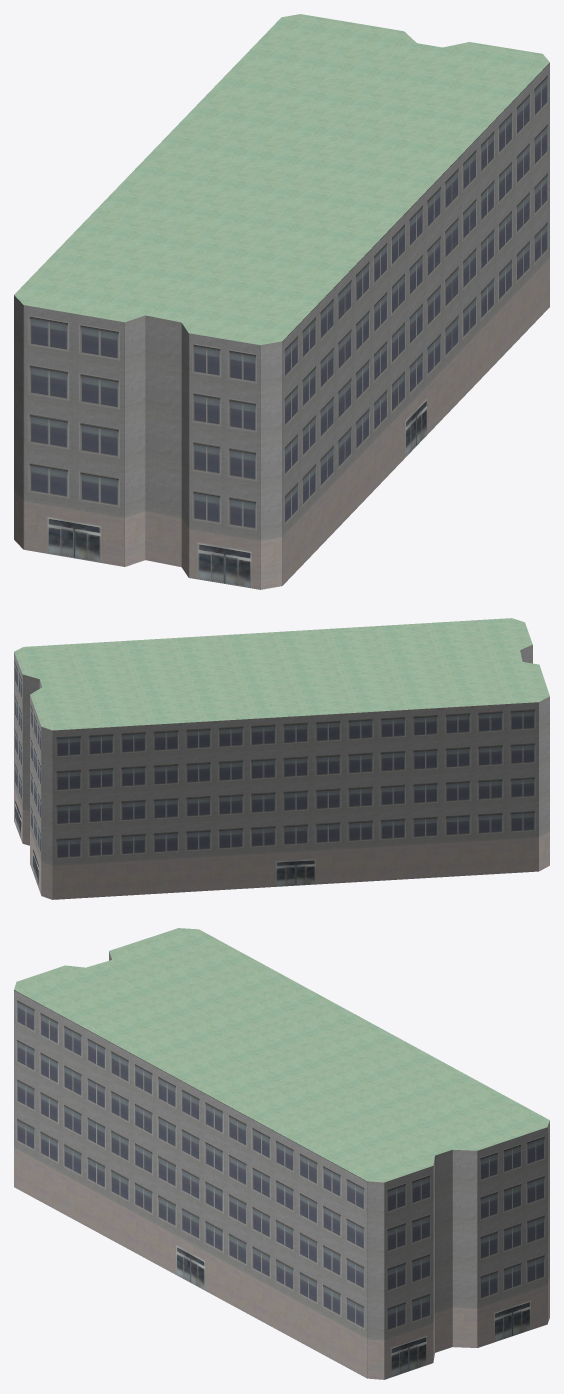
3 renders of one model, top to bottom at view 1: azimuth 30°, elevation 25°; view 2: azimuth 150°, elevation 25°; view 3: azimuth 270°, elevation 25°, orthographic. The views are drawn at different scales.
Parts seen in each view (by area): view 1: BuildingMaster_1978193875884463483700000000_0, BuildingMaster_1978193875884463483700000000_1; view 2: BuildingMaster_1978193875884463483700000000_0, BuildingMaster_1978193875884463483700000000_1; view 3: BuildingMaster_1978193875884463483700000000_0, BuildingMaster_1978193875884463483700000000_1.
Boxes of the visible parts, x1,y1,x2,y2 form: BuildingMaster_1978193875884463483700000000_0: [14, 63, 549, 589]; BuildingMaster_1978193875884463483700000000_1: [14, 14, 549, 345]; BuildingMaster_1978193875884463483700000000_0: [14, 644, 549, 899]; BuildingMaster_1978193875884463483700000000_1: [14, 618, 549, 730]; BuildingMaster_1978193875884463483700000000_0: [14, 952, 549, 1379]; BuildingMaster_1978193875884463483700000000_1: [14, 928, 549, 1182].
Size of the model in its own units: 48.41 by 17.5 by 43.08.
2 materials, 2 textured.
